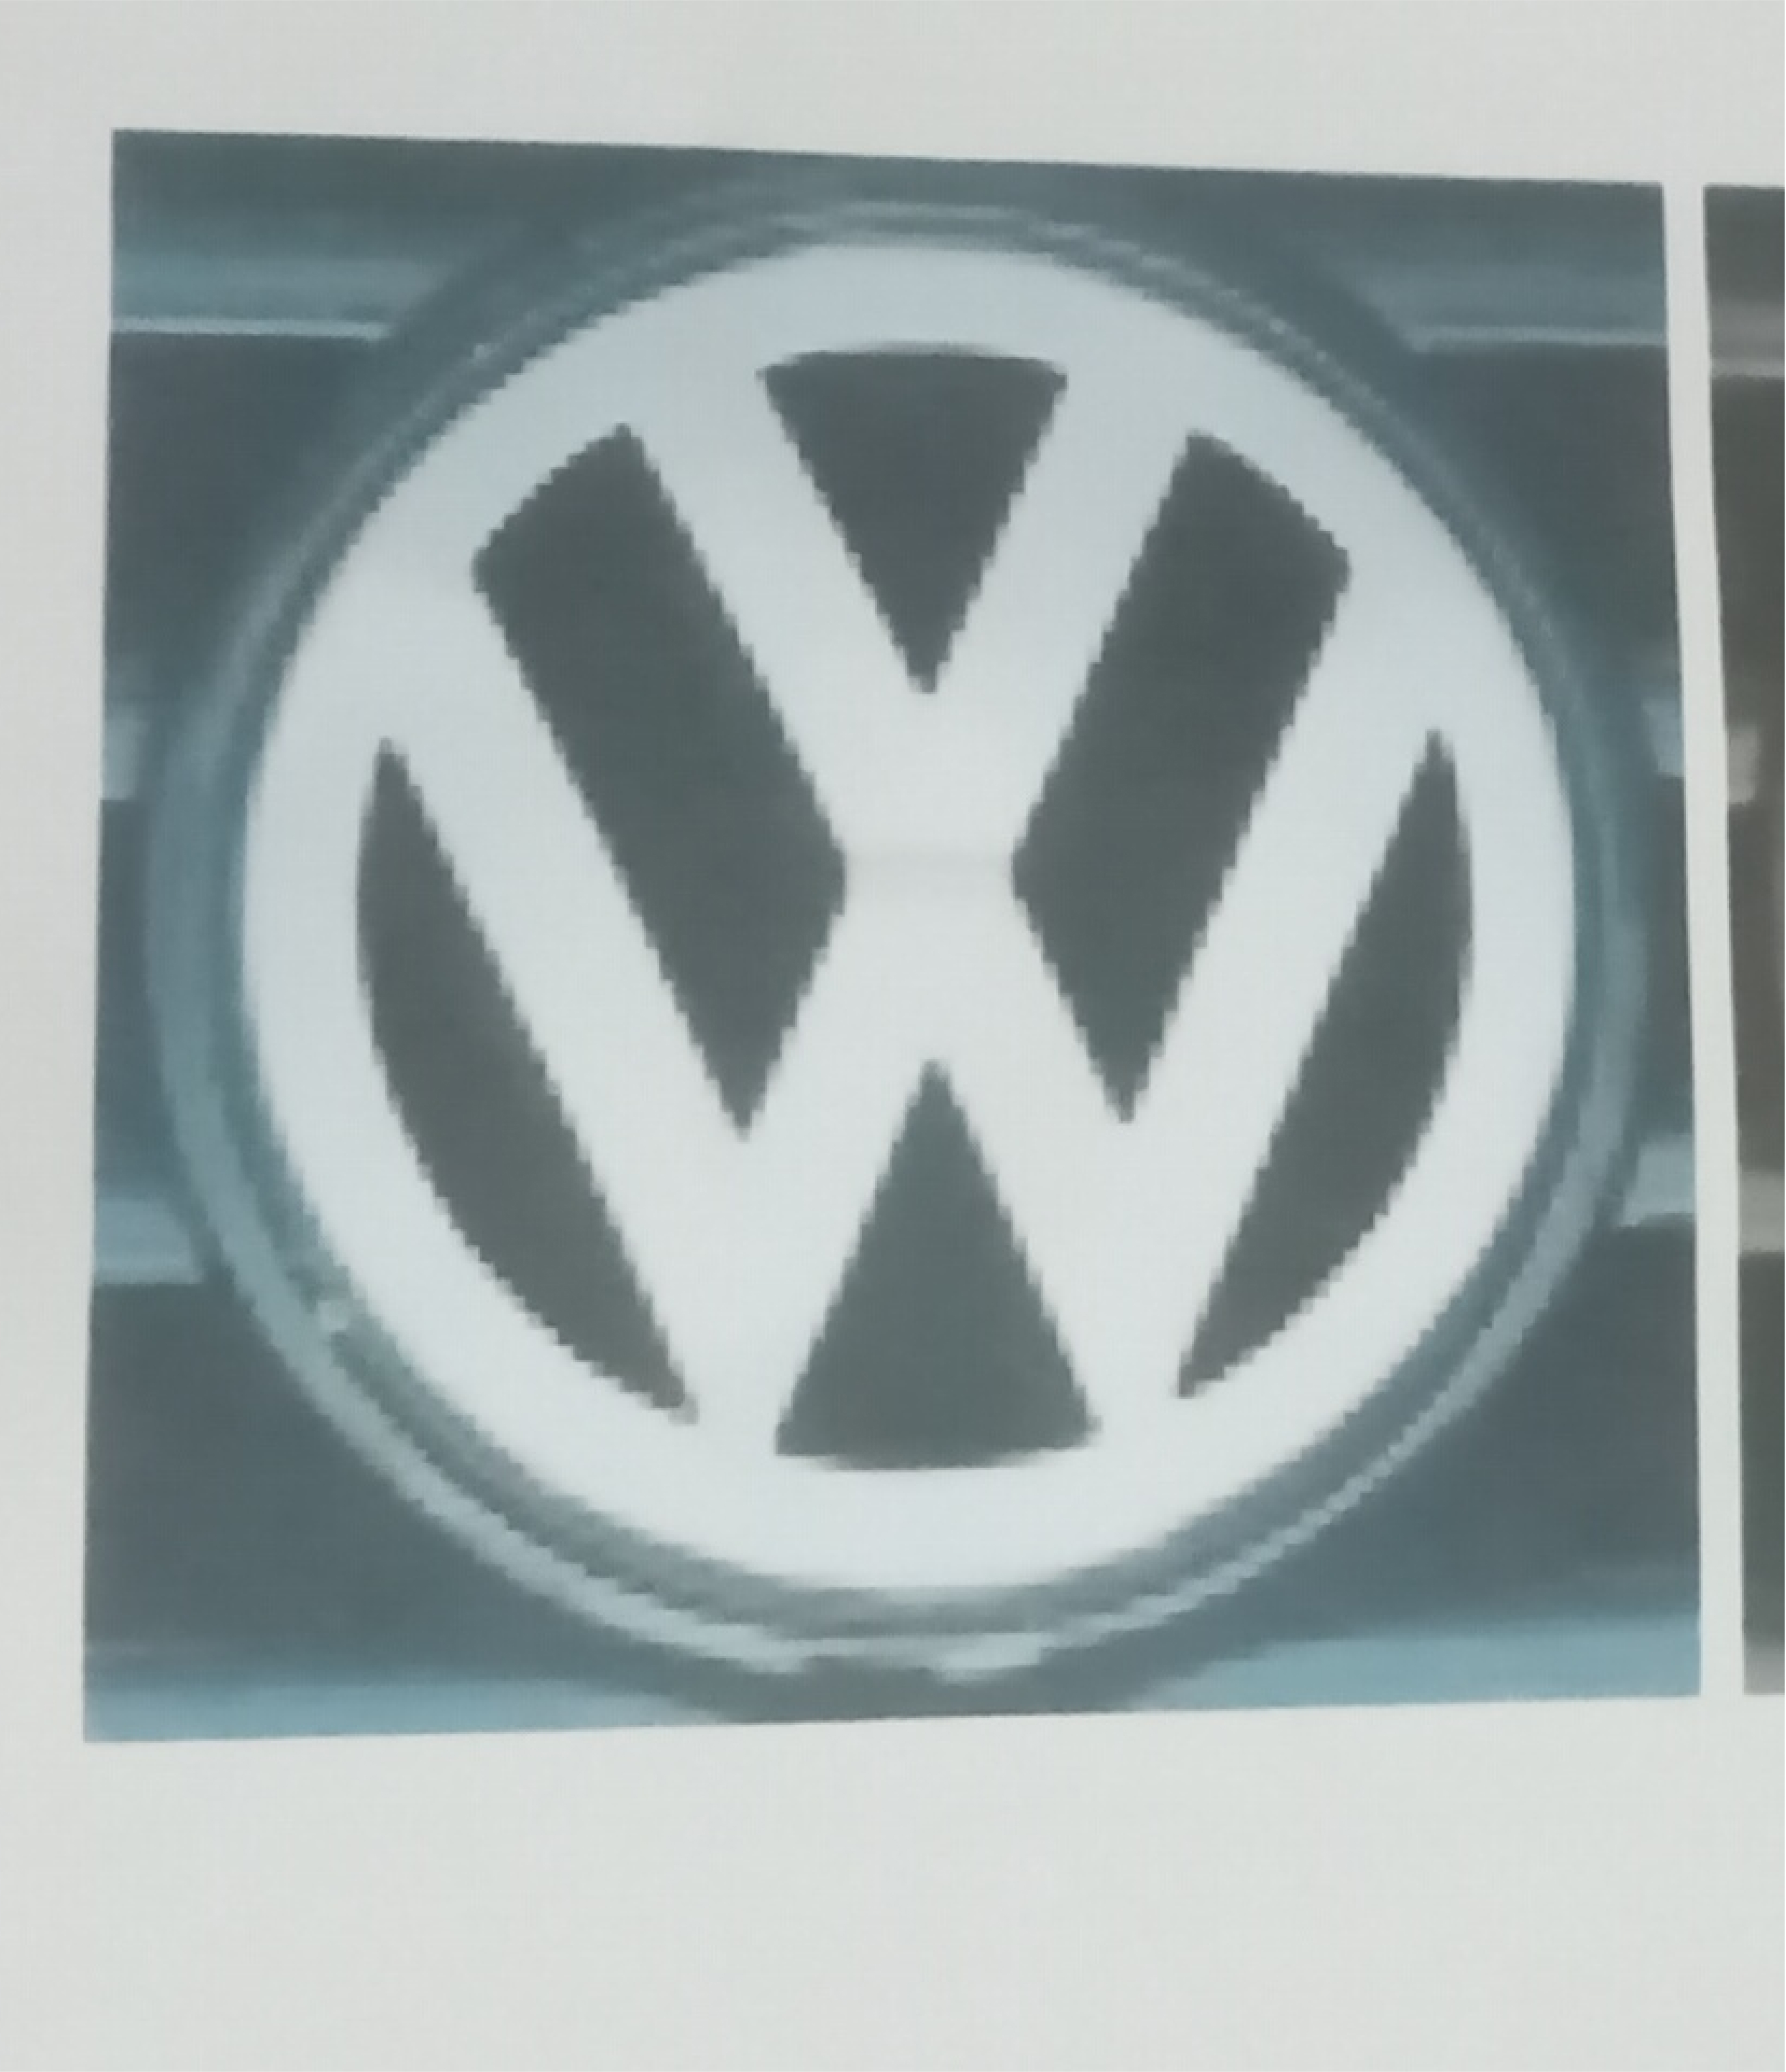Volkswagen: (181, 178, 1649, 1681)
